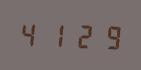four: (18, 18, 43, 49)
nine: (96, 20, 121, 51)
one: (44, 19, 69, 49)
two: (70, 20, 95, 50)
